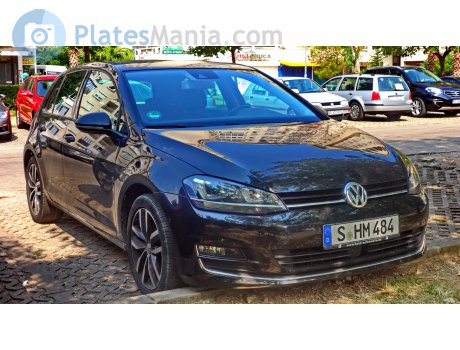License Plates: (333, 226, 394, 236)
